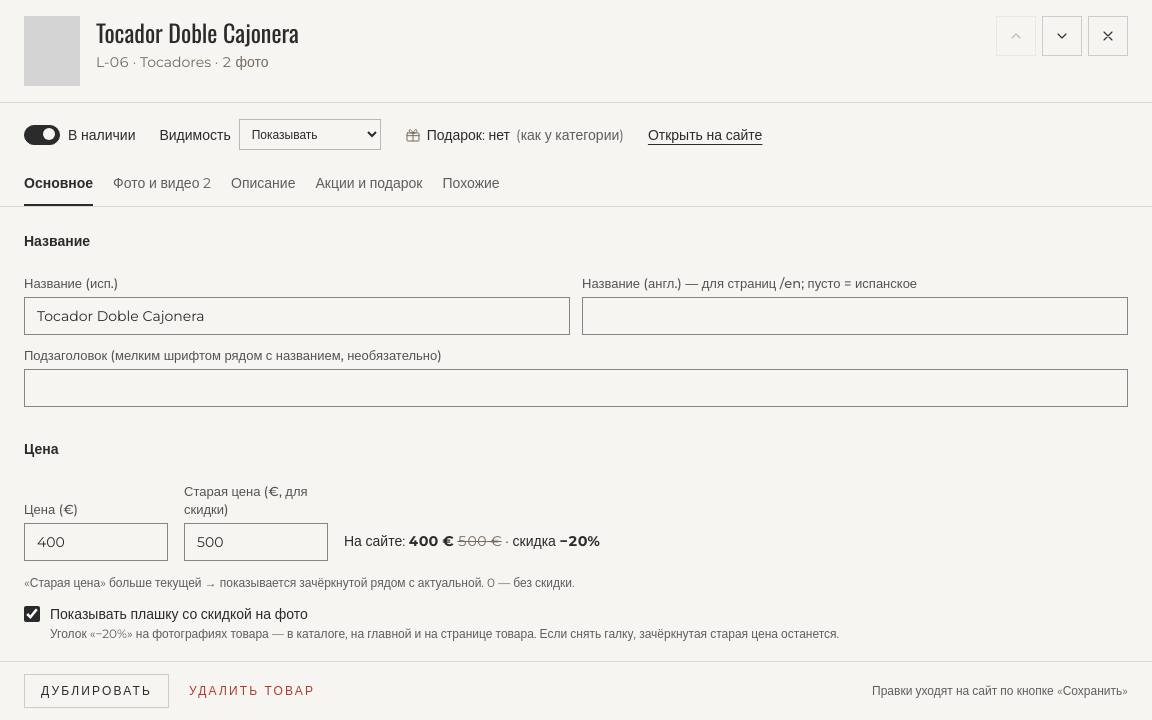
Test: CatalogSection — the product panel › closes when its product is deleted
The width and height of the screenshot is (1152, 720).
Expected: the dropdown labelled "Категория:" is shown, [360,177,680,215]
Click the button "Удалить товар": (252,691) [185,683,319,699]
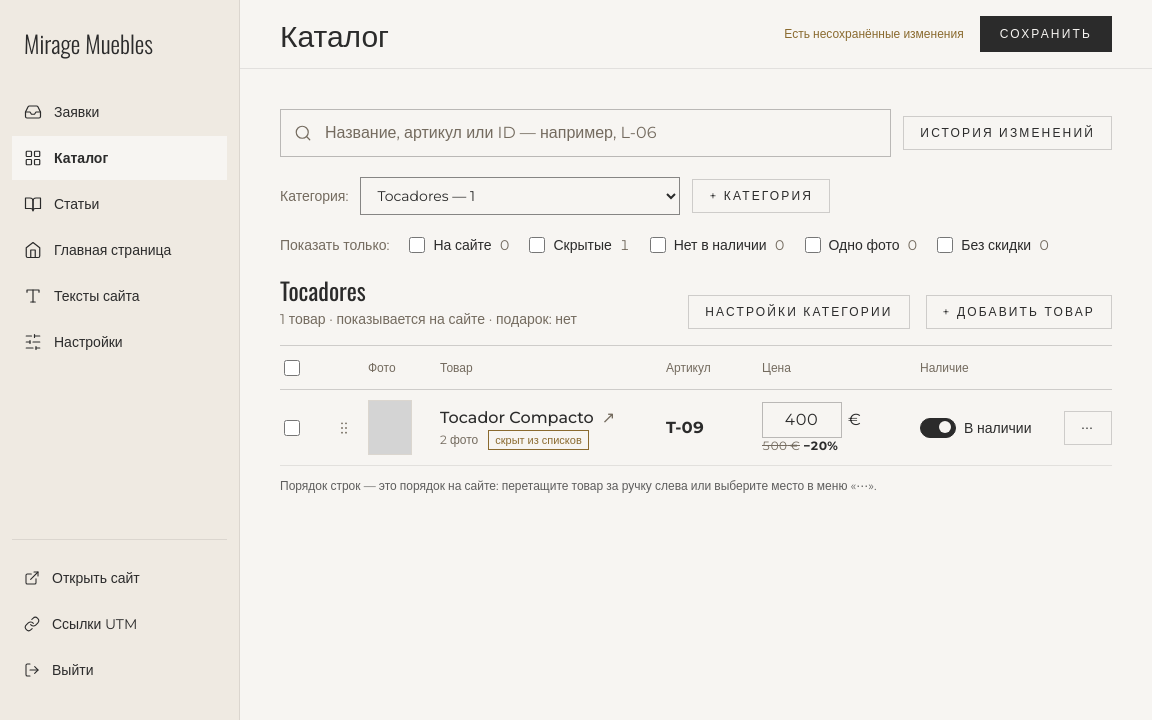
Expected: the dialog is gone
